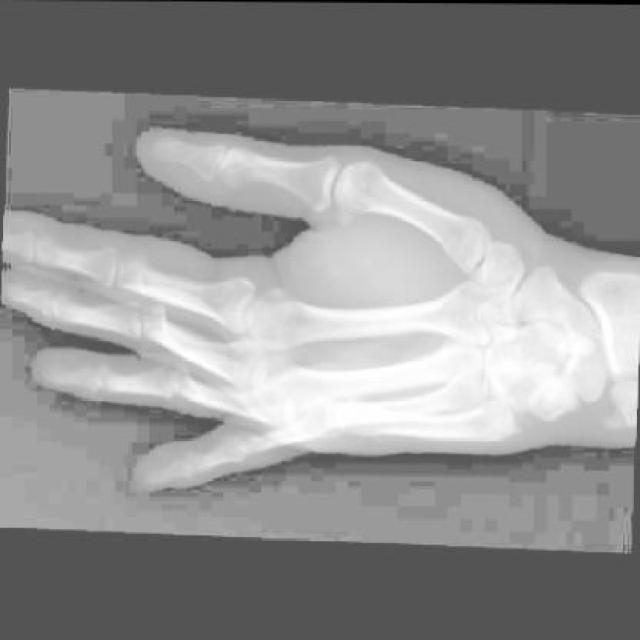Fracture: (500, 399, 539, 444)
